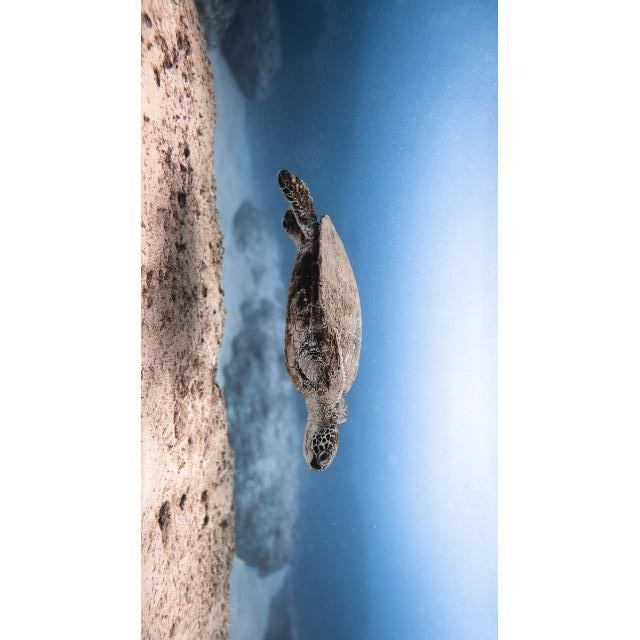turtle: (276, 170, 364, 473)
